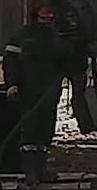gloves: (4, 80, 19, 103)
helmet: (36, 5, 55, 19)
vest: (15, 23, 64, 109)
